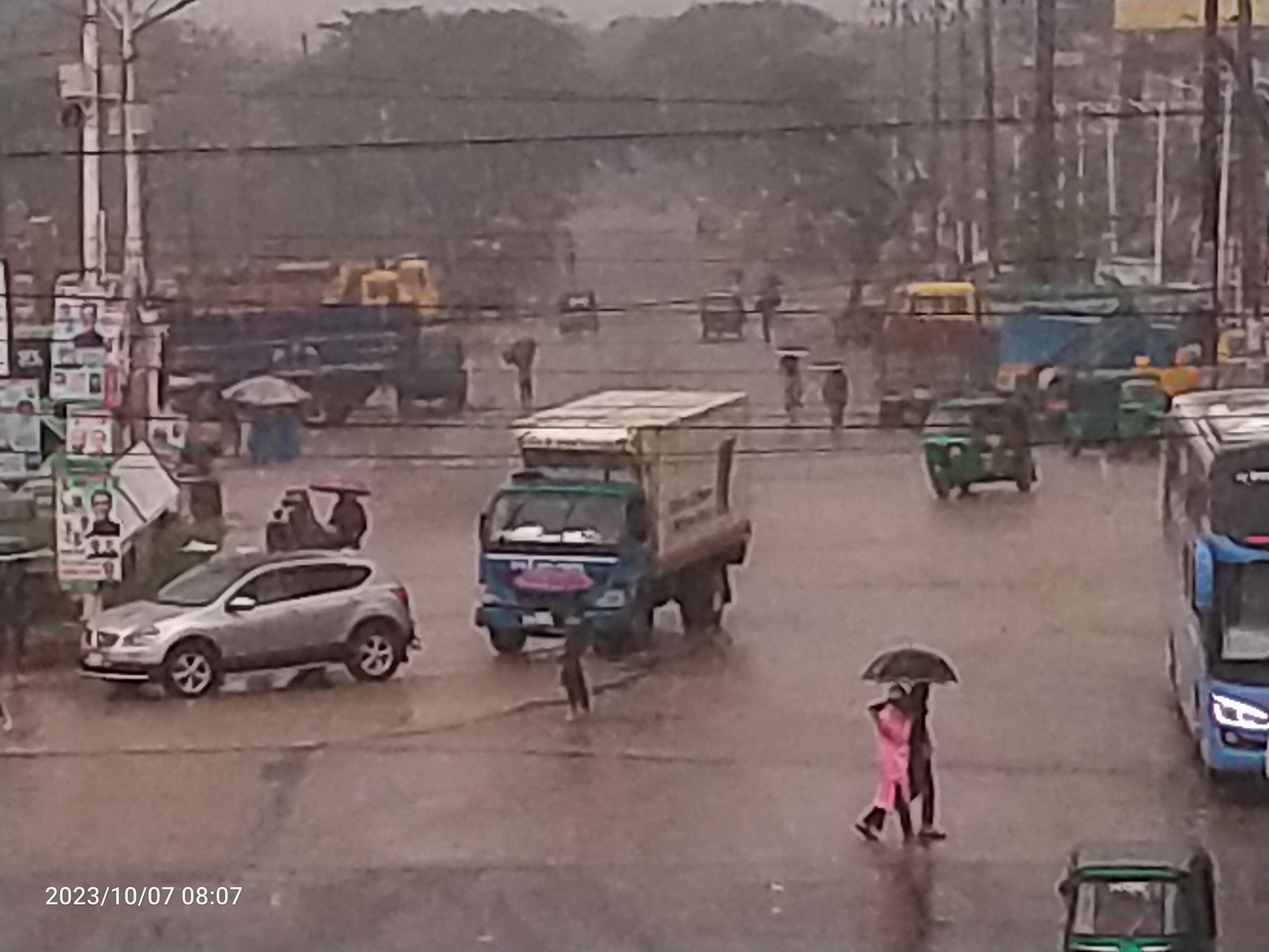Bus: (1150, 367, 1269, 799)
Car: (38, 529, 452, 715)
Truck: (459, 373, 767, 672), (112, 264, 418, 448), (873, 263, 1222, 370)
